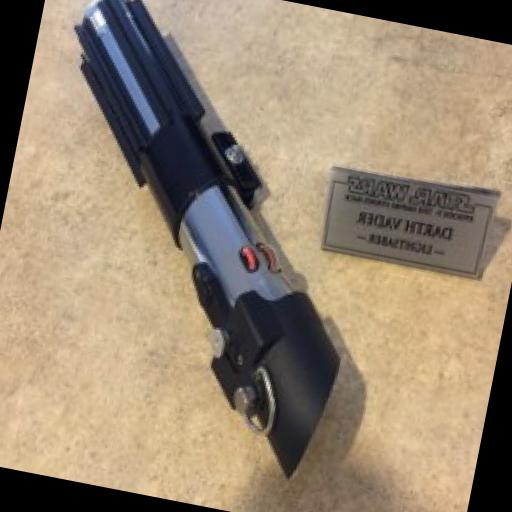lightsaber: (0, 0, 415, 492)
